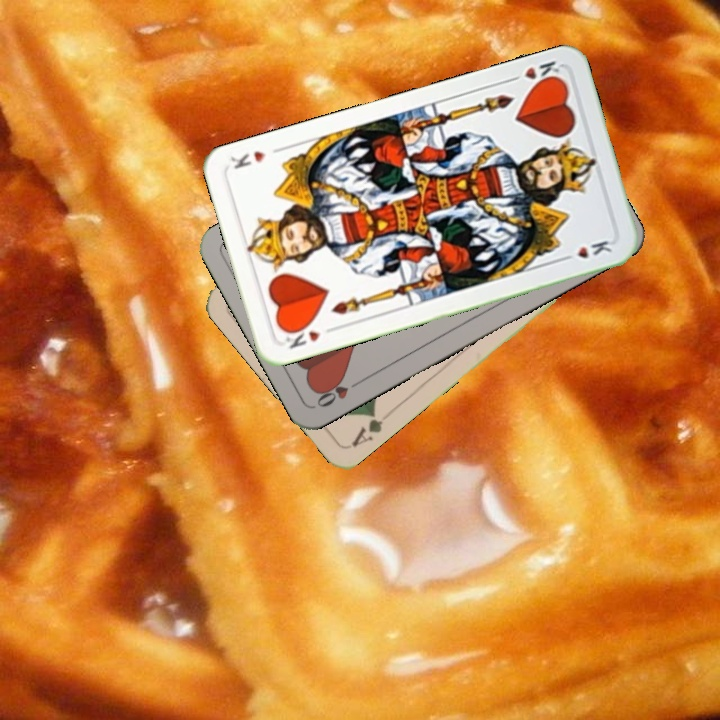GA: (347, 406, 386, 449)
HK: (504, 56, 565, 90), (278, 320, 338, 352)
HO: (312, 375, 367, 410)
